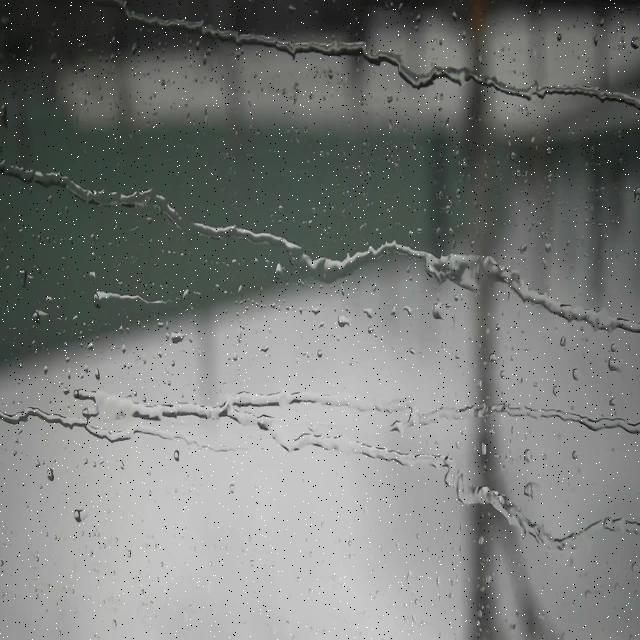raindrop: (512, 472, 540, 508), (89, 280, 112, 318), (427, 286, 447, 328), (66, 496, 88, 534), (162, 324, 188, 356), (24, 300, 49, 332), (266, 256, 287, 292), (602, 351, 624, 384), (15, 257, 32, 297), (331, 302, 350, 334), (627, 20, 640, 64), (519, 444, 535, 474), (41, 458, 57, 485), (0, 100, 12, 134)
